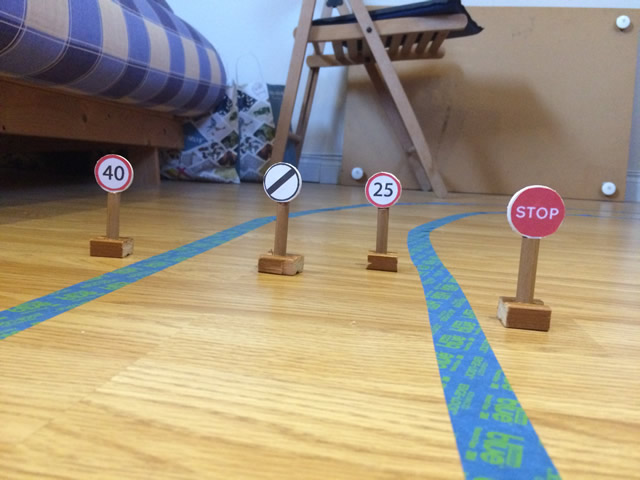Full Speed: (264, 161, 303, 203)
Speed Limit 25: (367, 170, 402, 206)
Speed Limit 40: (93, 152, 136, 194)
Stop Sign: (511, 185, 566, 239)
